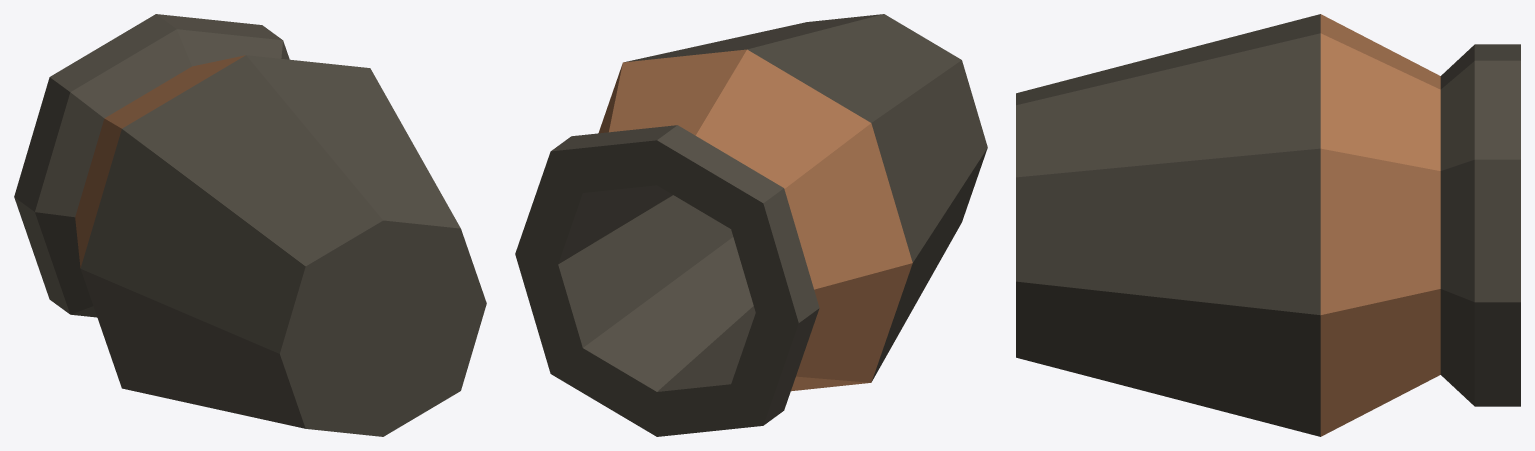
File: Urn 01.FBX
3 renders of one model, left to right at view 1: azimuth 30°, elevation 25°; view 2: azimuth 150°, elevation 25°; view 3: azimuth 270°, elevation 25°, orthographic. The views are drawn at different scales.
Visible parts, largest first — view 1: Urn 01; view 2: Urn 01; view 3: Urn 01.
Boxes of the visible parts, x1,y1,x2,y2 form: Urn 01: (14, 14, 486, 436); Urn 01: (515, 14, 987, 436); Urn 01: (1016, 14, 1520, 436).
Size of the model in its own units: 46.91 by 55.76 by 46.87.
